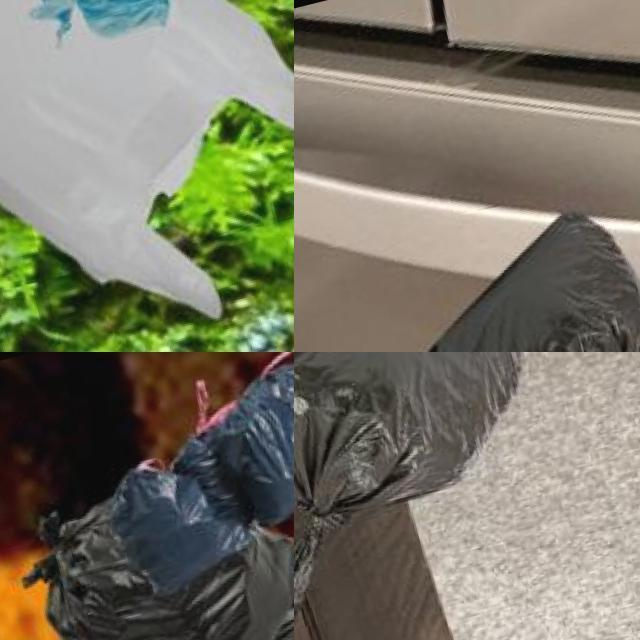waste: (0, 0, 294, 352), (294, 352, 566, 627), (18, 426, 294, 640), (412, 189, 640, 352), (170, 352, 294, 533)
